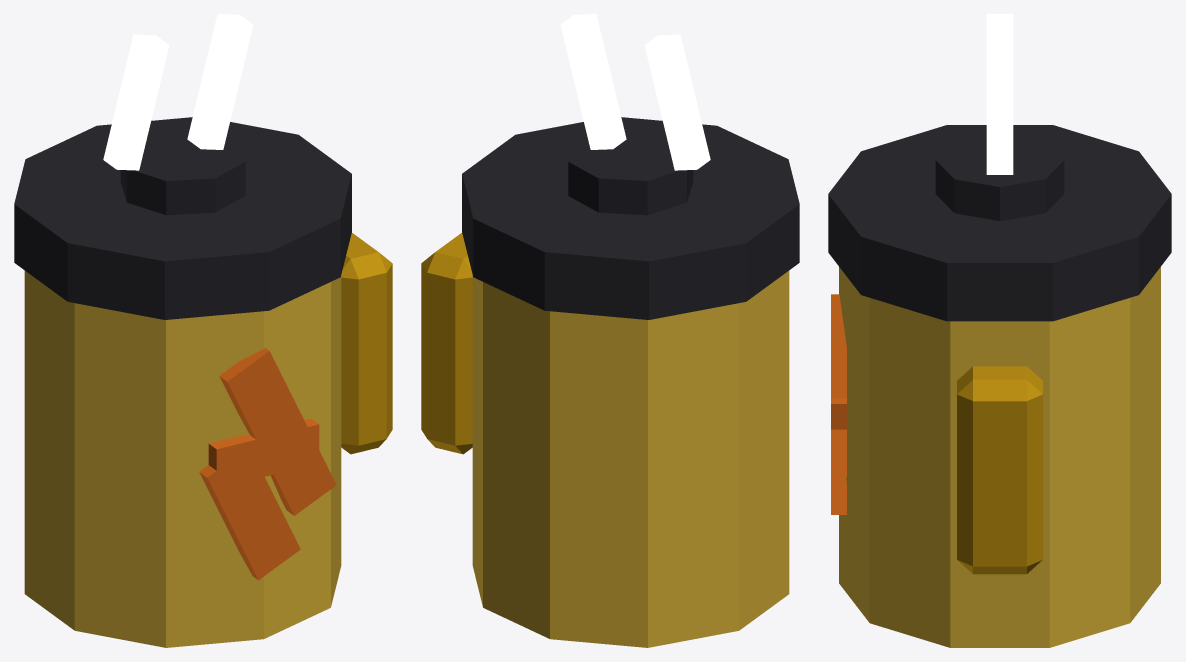
The model's file is pu_coffee.glb.
3 views of the same model, side by side, from view 1: azimuth 30°, elevation 25°; view 2: azimuth 150°, elevation 25°; view 3: azimuth 270°, elevation 25° (orthographic).
Parts seen in each view (by area): view 1: pu_coffee; view 2: pu_coffee; view 3: pu_coffee.
Part boxes in pixels (bbox=[...]): pu_coffee: bbox=[14, 14, 392, 647]; pu_coffee: bbox=[421, 14, 799, 647]; pu_coffee: bbox=[828, 14, 1171, 647].
Bounding box in the file's own units: 0.7243 × 1.13 × 0.6401.
